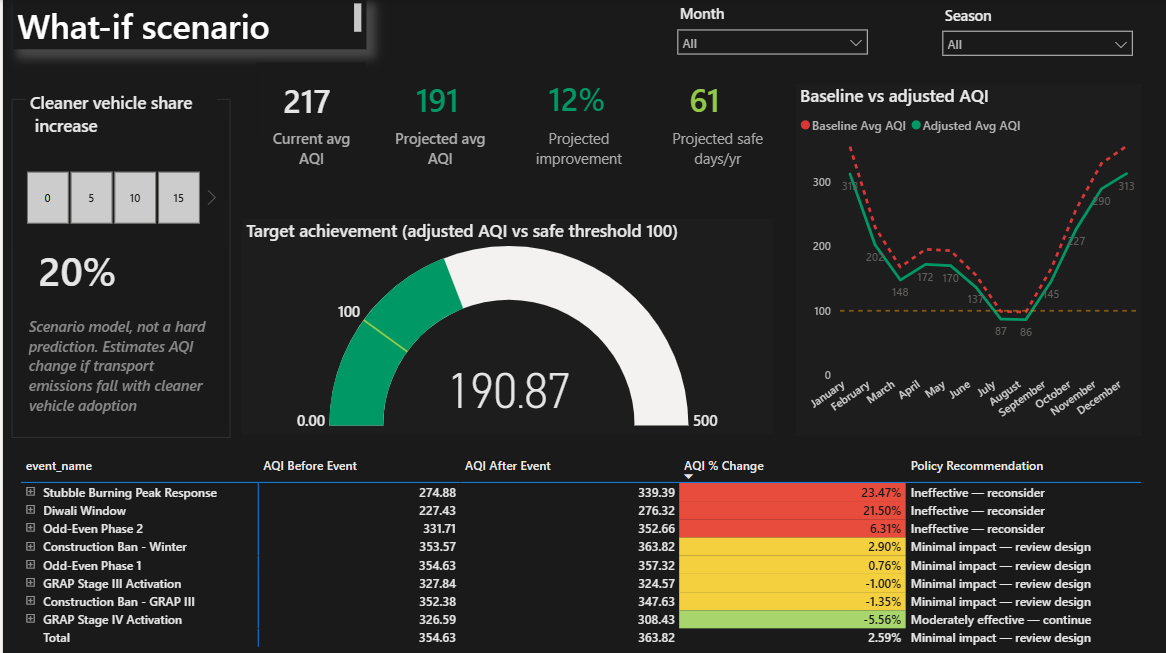

What the dashboard file says about the page in this screenshot:
{"tool":"powerbi","page":{"name":"Page 5","canvas":[1280,720],"ordinal":4},"visuals":[{"type":"shape","box":[9.2,109.2,240,372.3],"z":0},{"type":"textbox","box":[10.8,0,387.7,55.4],"z":1000},{"type":"slicer","fields":{"Values":["delhiaqi dim_date.month_name"]},"box":[730.4,0,229,68.1],"z":2000},{"type":"slicer","fields":{"Values":["delhiaqi dim_date.Season"]},"box":[1020.3,1.7,228.8,67.8],"z":3000},{"type":"slicer","fields":{"Values":["Cleaner Vehicle Share Increase %.Cleaner Vehicle Share Increase %"]},"box":[0,183.1,240,70.8],"z":4000},{"type":"textbox","box":[24.6,95.4,210.8,69.2],"z":5000},{"type":"cardVisual","fields":{"Data":["What if.Selected Vehicle Share Label"]},"box":[9.2,253.8,240,83.1],"z":6000},{"type":"textbox","box":[23.1,343.1,210.8,120],"z":7000},{"type":"cardVisual","fields":{"Data":["What if.Baseline Avg AQI"]},"box":[278.3,69.6,120.3,79.7],"z":8000},{"type":"cardVisual","fields":{"Data":["What if.Adjusted Avg AQI"]},"box":[424.6,68.1,120.3,79.7],"z":9000},{"type":"cardVisual","fields":{"Data":["What if.AQI Reduction %"]},"box":[569.2,67.7,124.6,80],"z":10000},{"type":"cardVisual","fields":{"Data":["What if.Projected Safe Days"]},"box":[724.6,68.1,120.3,79.7],"z":11000},{"type":"textbox","box":[278.5,136.9,120,53.8],"z":12000},{"type":"textbox","box":[420,136.9,120,55.4],"z":13000},{"type":"textbox","box":[572.3,136.9,120,55.4],"z":14000},{"type":"textbox","box":[724.6,136.9,120,81.5],"z":15000},{"type":"lineChart","title":"Baseline vs adjusted AQI","fields":{"Category":["delhiaqi dim_date.month_name"],"Y":["What if.Baseline Avg AQI","What if.Adjusted Avg AQI"]},"box":[869.5,93.2,379.7,386.4],"z":16000},{"type":"pivotTable","fields":{"Rows":["delhiaqi policy_events.event_name","delhiaqi policy_events.event_type"],"Values":["_Measures.AQI Before Event","_Measures.AQI After Event","_Measures.AQI % Change","What if.Policy Recommendation"]},"box":[15.4,496.9,1249.2,223.1],"z":17000},{"type":"gauge","title":"Target achievement (adjusted AQI vs safe threshold 100)","fields":{"Y":["What if.Adjusted Avg AQI"],"TargetValue":["What if.Safe Threshold"],"MaxValue":["What if.Max AQI Scale"]},"box":[261.5,241.5,583.1,236.9],"z":18000}]}

Visuals, with their boxes in screenshot pixels (x1, y1, x2, y2), scaled from the page's 1280x720 canvas onto the 1166x653 screenshot:
shape: rect(8, 99, 227, 437)
textbox: rect(10, 0, 363, 50)
slicer - delhiaqi dim_date.month_name: rect(665, 0, 874, 62)
slicer - delhiaqi dim_date.Season: rect(929, 2, 1138, 63)
slicer - Cleaner Vehicle Share Increase %.Cleaner Vehicle Share Increase %: rect(0, 166, 219, 230)
textbox: rect(22, 87, 214, 149)
cardVisual - What if.Selected Vehicle Share Label: rect(8, 230, 227, 306)
textbox: rect(21, 311, 213, 420)
cardVisual - What if.Baseline Avg AQI: rect(254, 63, 363, 135)
cardVisual - What if.Adjusted Avg AQI: rect(387, 62, 496, 134)
cardVisual - What if.AQI Reduction %: rect(519, 61, 632, 134)
cardVisual - What if.Projected Safe Days: rect(660, 62, 770, 134)
textbox: rect(254, 124, 363, 173)
textbox: rect(383, 124, 492, 174)
textbox: rect(521, 124, 631, 174)
textbox: rect(660, 124, 769, 198)
"Baseline vs adjusted AQI" lineChart: rect(792, 85, 1138, 435)
pivotTable - delhiaqi policy_events.event_name x delhiaqi policy_events.event_type: rect(14, 451, 1152, 652)
"Target achievement (adjusted AQI vs safe threshold 100)" gauge: rect(238, 219, 769, 434)
